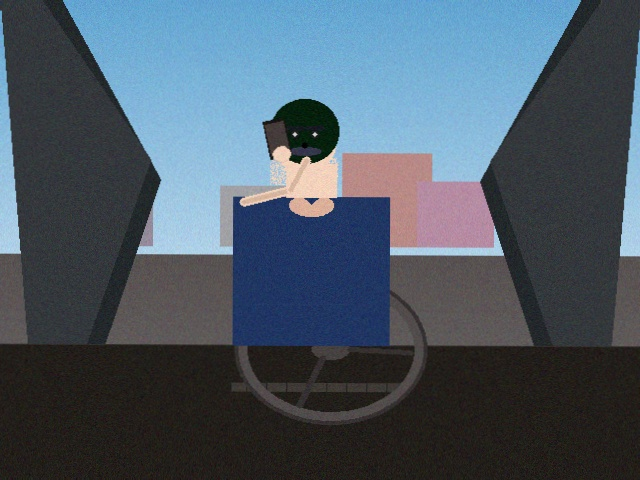phone_usage: (258, 112, 296, 166)
